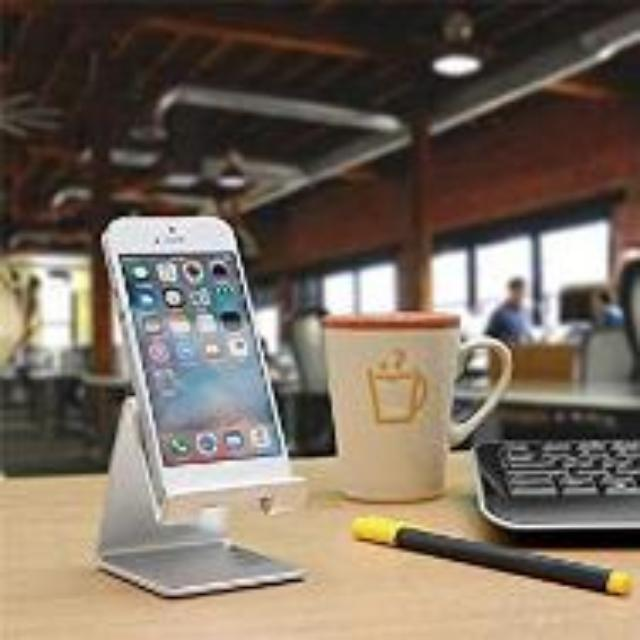PhoneUse: (102, 215, 298, 489)
